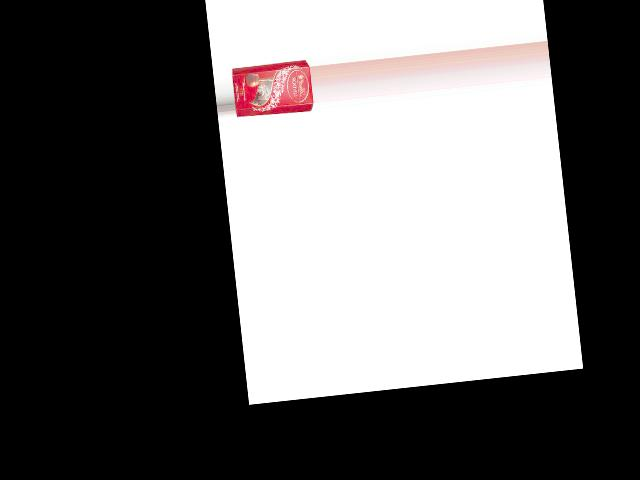chocolate: (230, 55, 314, 120)
